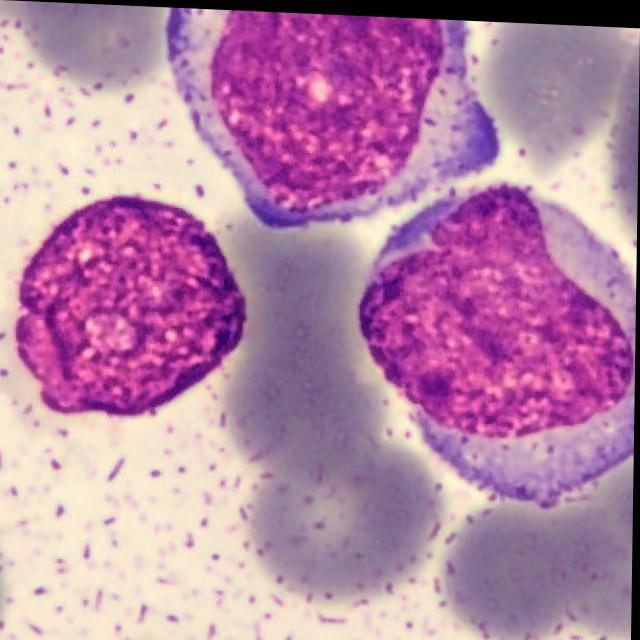Mieloblasto: (358, 179, 637, 505), (164, 6, 499, 229), (15, 195, 249, 415)
